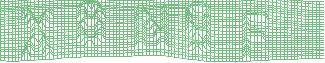8: (75, 1, 106, 47)
F: (240, 10, 269, 62)
N: (132, 4, 171, 51)
X: (20, 7, 57, 63)
g: (182, 2, 212, 57)
